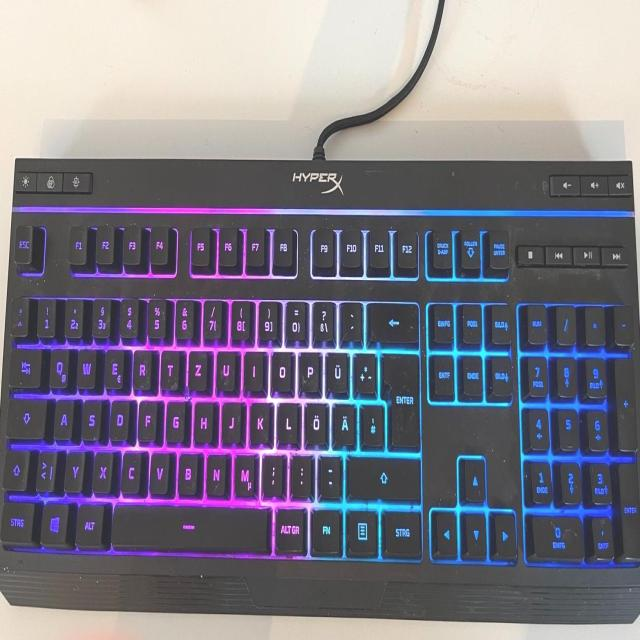0: (284, 297, 308, 341)
1: (35, 295, 56, 335)
2: (63, 295, 83, 337)
3: (90, 295, 111, 338)
4: (118, 294, 139, 336)
5: (146, 295, 167, 338)
6: (174, 296, 195, 339)
7: (201, 296, 222, 339)
8: (229, 296, 251, 341)
9: (256, 296, 279, 340)
a: (52, 394, 73, 438)
accent: (339, 298, 361, 340)
ae: (331, 399, 355, 445)
alt-left: (74, 499, 103, 545)
altgr-right: (274, 502, 305, 551)
b: (176, 448, 198, 493)
c: (120, 447, 141, 491)
caret: (9, 293, 29, 334)
comma: (260, 449, 283, 495)
d: (108, 395, 129, 439)
del: (367, 299, 418, 342)
e: (103, 345, 124, 388)
enter: (381, 348, 419, 448)
f: (137, 395, 157, 440)
g: (165, 395, 185, 441)
h: (192, 396, 213, 442)
hash: (360, 400, 383, 445)
i: (243, 346, 264, 388)
j: (220, 396, 241, 442)
k: (248, 397, 270, 443)
keyboard: (0, 194, 640, 605)
l: (276, 397, 297, 442)
less: (34, 446, 56, 489)
m: (232, 448, 255, 495)
minus: (318, 451, 340, 496)
n: (205, 448, 226, 494)
o: (270, 347, 292, 390)
oe: (303, 398, 326, 443)
p: (298, 347, 319, 390)
plus: (353, 348, 375, 394)
point: (291, 450, 311, 494)
q: (48, 344, 69, 386)
r: (131, 346, 152, 389)
s: (80, 395, 101, 439)
shift-left: (1, 447, 29, 489)
shift-lock: (5, 396, 46, 438)
shift-right: (347, 454, 419, 500)
space: (109, 499, 268, 550)
ss: (311, 297, 334, 342)
strg-left: (0, 498, 34, 541)
strg-right: (381, 506, 422, 555)
t: (159, 345, 179, 388)
tab: (7, 345, 42, 386)
u: (215, 346, 236, 390)
ue: (326, 348, 348, 393)
v: (148, 447, 169, 491)
w: (75, 345, 95, 387)
x: (92, 447, 112, 490)
y: (63, 447, 84, 490)
z: (187, 346, 207, 388)
